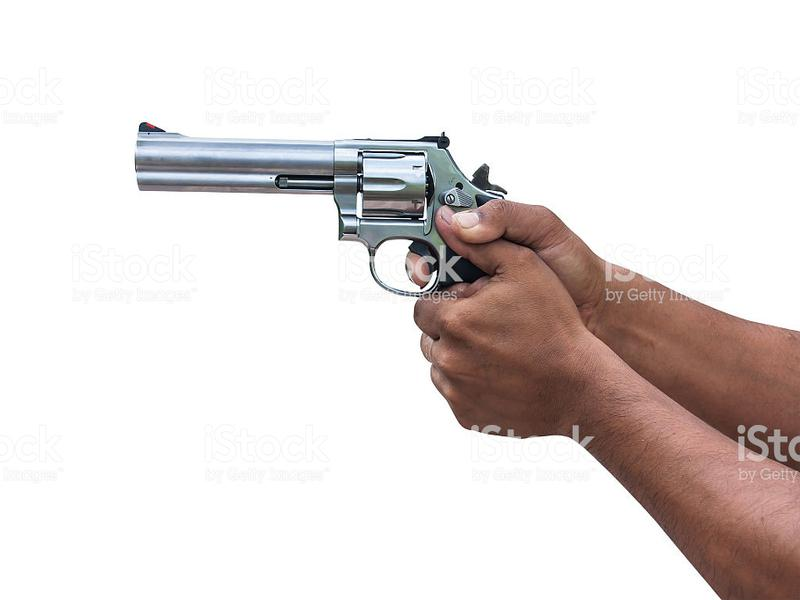Revolver: (121, 99, 515, 309)
